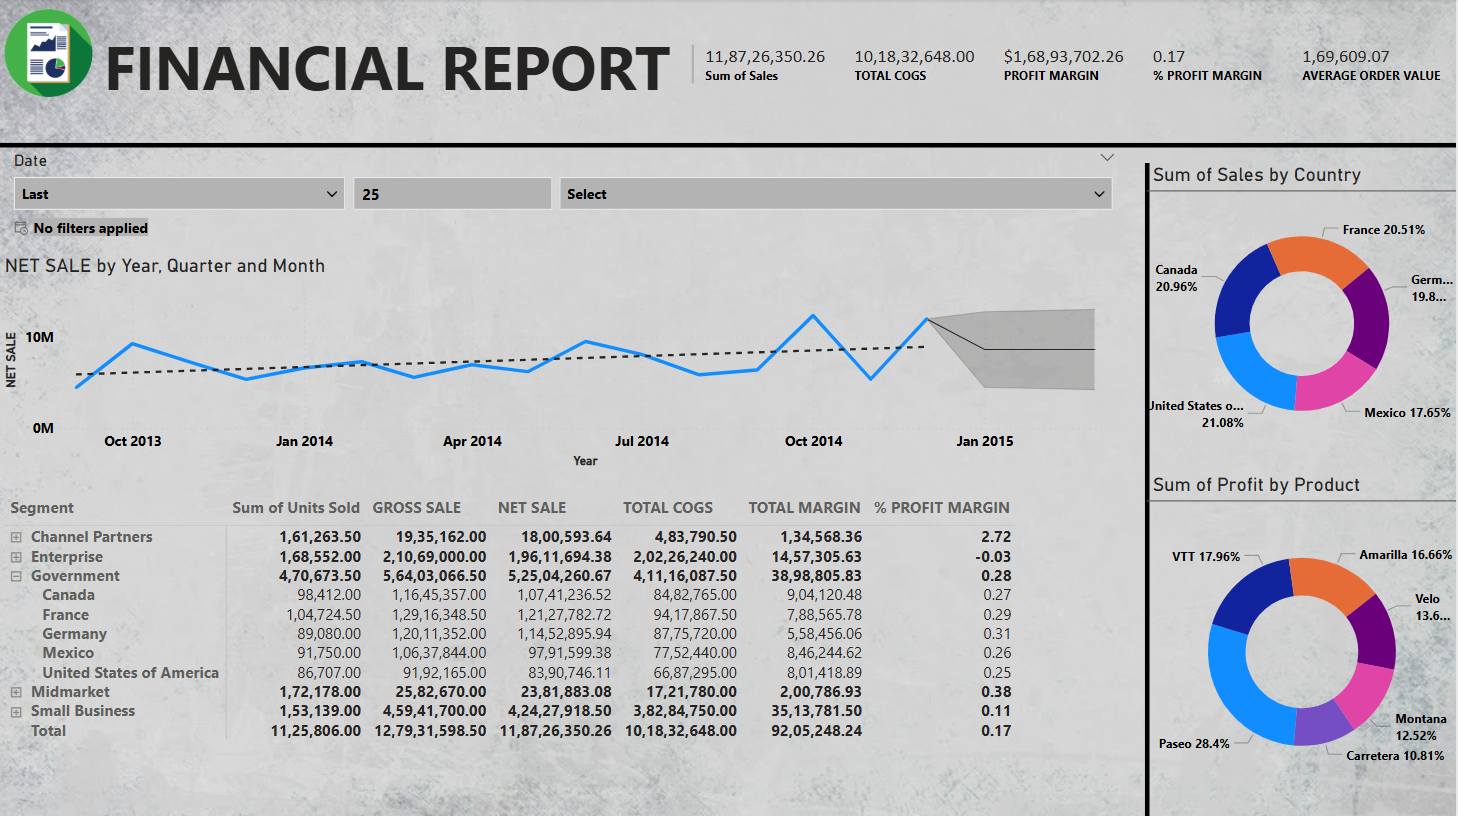

The dashboard page shown, as its layout file describes it:
{"tool":"powerbi","page":{"name":"FIN REPORT 2","canvas":[1280,720],"ordinal":1},"visuals":[{"type":"image","box":[0,0,87.1,94.1],"z":0},{"type":"textbox","box":[87.1,0,529.7,112.7],"z":1000},{"type":"multiRowCard","fields":{"Values":["Sum(financials. Sales)","ALL MEASURES (2).TOTAL COGS","ALL MEASURES (2).PROFIT MARGIN","ALL MEASURES (2).% PROFIT MARGIN","ALL MEASURES (2).AVERAGE ORDER VALUE"]},"box":[602.8,34.8,677.2,59.2],"z":3000},{"type":"shape","box":[0,112,1280,32],"z":4000},{"type":"shape","box":[992,144,32,576],"z":9000},{"type":"lineChart","fields":{"Category":["DATE QUERY.Date.Variation.Date Hierarchy.Year","DATE QUERY.Date.Variation.Date Hierarchy.Quarter","DATE QUERY.Date.Variation.Date Hierarchy.Month","DATE QUERY.Date.Variation.Date Hierarchy.Day"],"Y":["ALL MEASURES (2).NET SALE"]},"box":[0,224,992,192],"z":11000},{"type":"slicer","fields":{"Values":["financials.Date"]},"box":[0,128,992,96],"z":12000},{"type":"pivotTable","fields":{"Rows":["financials.Segment","financials.Country"],"Values":["Sum(financials.Units Sold)","ALL MEASURES (2).GROSS SALE","ALL MEASURES (2).NET SALE","ALL MEASURES (2).TOTAL COGS","ALL MEASURES (2).TOTAL MARGIN","ALL MEASURES (2).% PROFIT MARGIN"]},"box":[0,432,992,288],"z":12001},{"type":"donutChart","fields":{"Y":["Sum(financials. Sales)"],"Category":["financials.Country"]},"box":[1008,144,272,256],"z":12002},{"type":"donutChart","fields":{"Category":["financials.Product"],"Y":["Sum(financials.Profit)"]},"box":[1008,416,272,288],"z":12003}]}

Visuals, with their boxes in screenshot pixels (x1, y1, x2, y2), scaled from the page's 1280x720 canvas onto the 1458x816 screenshot:
image: bbox(0, 0, 99, 107)
textbox: bbox(99, 0, 703, 128)
multiRowCard - Sum(financials. Sales) x ALL MEASURES (2).TOTAL COGS: bbox(687, 39, 1457, 107)
shape: bbox(0, 127, 1457, 163)
shape: bbox(1130, 163, 1166, 815)
lineChart - DATE QUERY.Date.Variation.Date Hierarchy.Year x DATE QUERY.Date.Variation.Date Hierarchy.Quarter: bbox(0, 254, 1130, 471)
slicer - financials.Date: bbox(0, 145, 1130, 254)
pivotTable - financials.Segment x financials.Country: bbox(0, 490, 1130, 815)
donutChart - Sum(financials. Sales) x financials.Country: bbox(1148, 163, 1457, 453)
donutChart - financials.Product x Sum(financials.Profit): bbox(1148, 471, 1457, 798)
